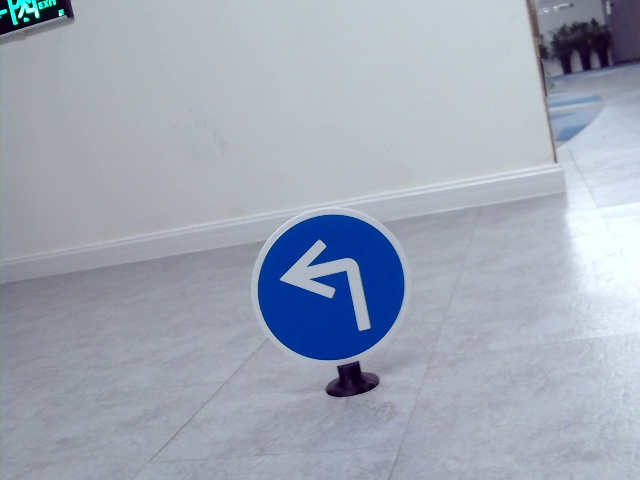turn_left: (278, 240, 380, 332)
